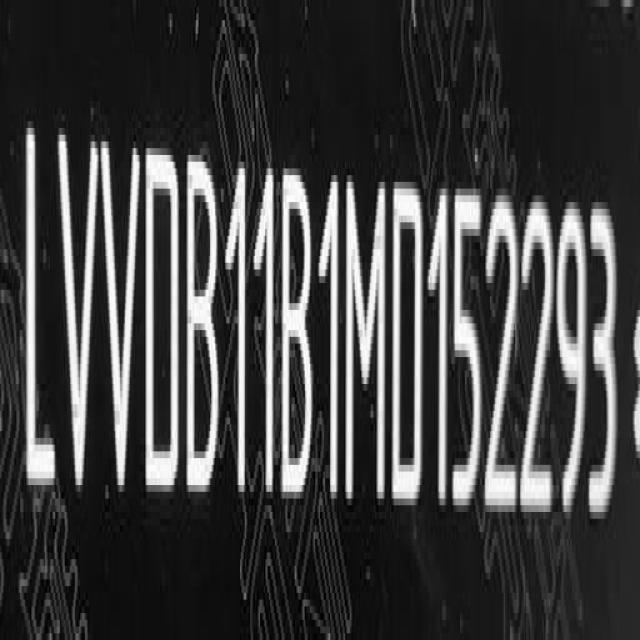1: (319, 167, 344, 507), (226, 164, 249, 502), (254, 157, 277, 492), (428, 187, 452, 504)
2: (484, 185, 520, 514), (520, 192, 556, 514)
3: (589, 204, 617, 522)
5: (451, 192, 483, 509)
9: (557, 199, 587, 512)
B: (184, 147, 221, 499), (279, 162, 315, 499)
D: (144, 137, 182, 497), (391, 175, 424, 519)
L: (22, 124, 56, 507)
M: (346, 172, 387, 502)
V: (97, 134, 143, 487), (58, 120, 100, 497)
